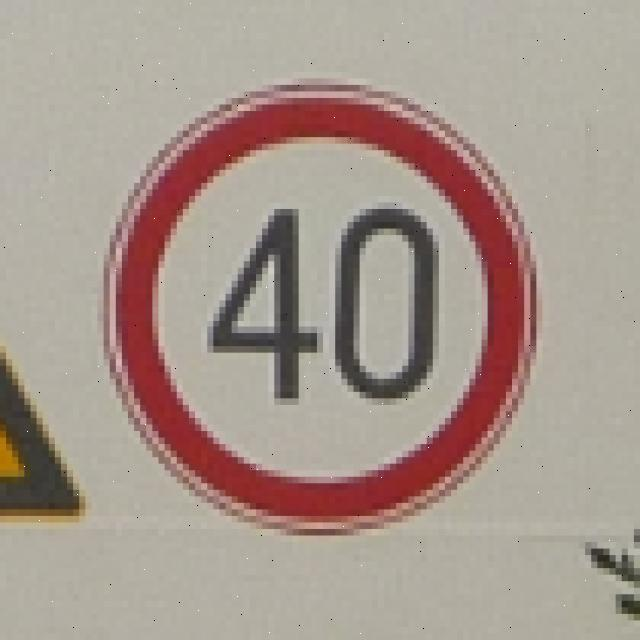speed limit 40: (101, 79, 533, 536)
